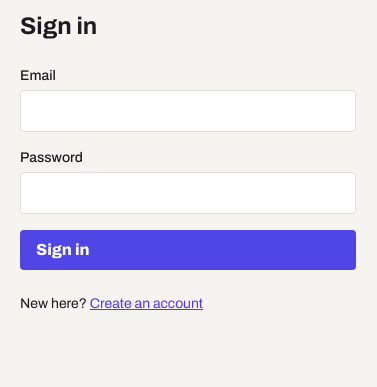
Test: AuthForm › shows the server error on bad credentials
Type "jane@example.com" into the field labelled "Email". click: (188, 111)
box: x1=20 y1=90 x2=356 y2=132
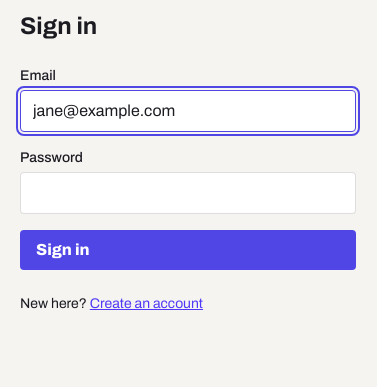
Type "WrongPass1" into the password field labelled "Password". click: (188, 193)
box: x1=20 y1=172 x2=356 y2=214
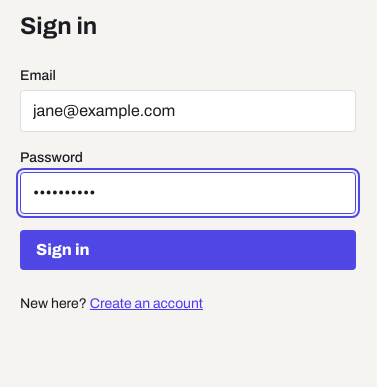
Click the button "Sign in". click: click(63, 250)
box: x1=20 y1=230 x2=356 y2=270
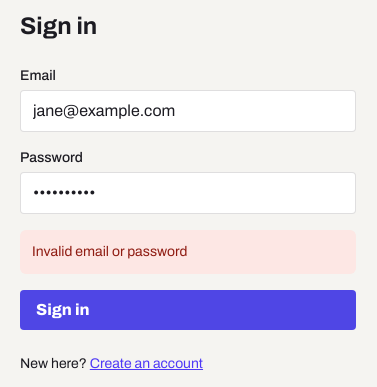
Check: the message reads "Invalid email or password", box x1=32 y1=244 x2=188 y2=259
